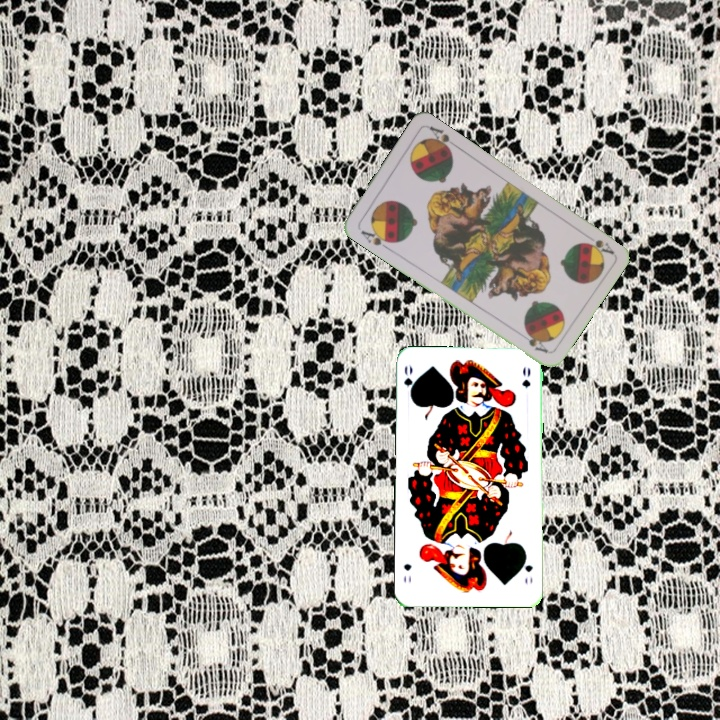GO: (400, 361, 418, 402), (518, 550, 535, 587)
SA: (356, 224, 395, 252), (581, 235, 616, 257)
